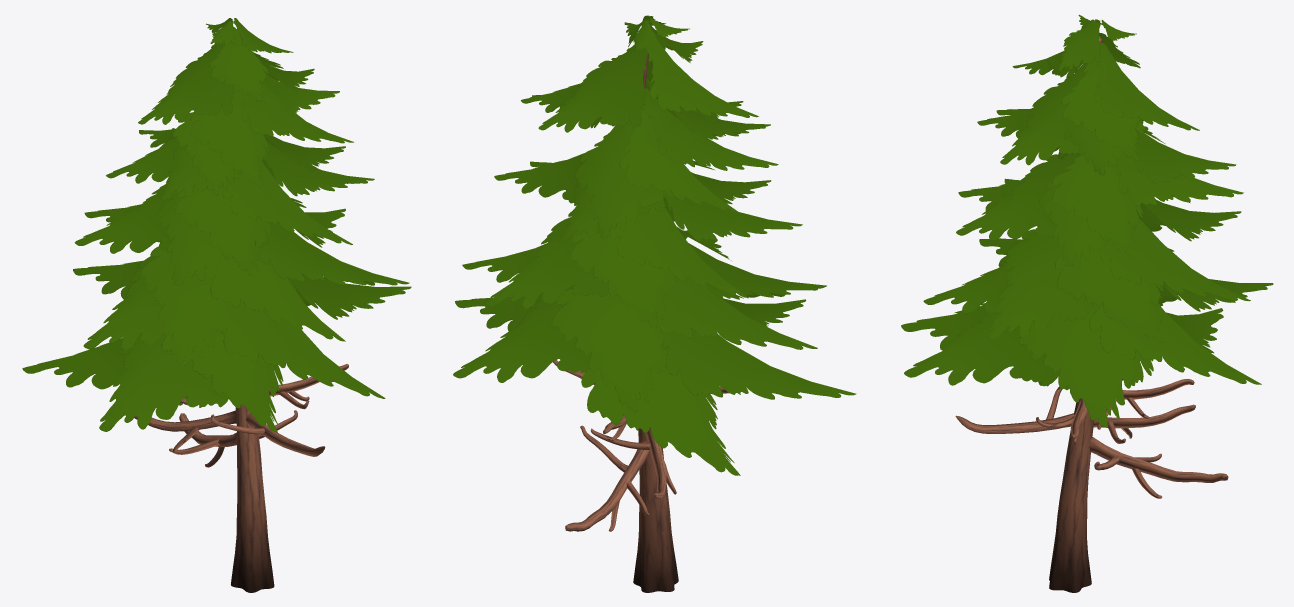
The model's file is Pine_1.glb.
The picture shows the model from 3 angles, left to right: view 1: azimuth 30°, elevation 25°; view 2: azimuth 150°, elevation 25°; view 3: azimuth 270°, elevation 25°; orthographic projection. The views are drawn at different scales.
Visible parts, largest first — view 1: Pine_1; view 2: Pine_1; view 3: Pine_1.
Boxes of the visible parts, x1,y1,x2,y2 form: Pine_1: (22, 18, 411, 592); Pine_1: (453, 15, 856, 592); Pine_1: (901, 14, 1273, 592).
Bounding box in the file's own units: 4.94 × 7.32 × 4.54.
Materials: 2 (2 with a texture image).
